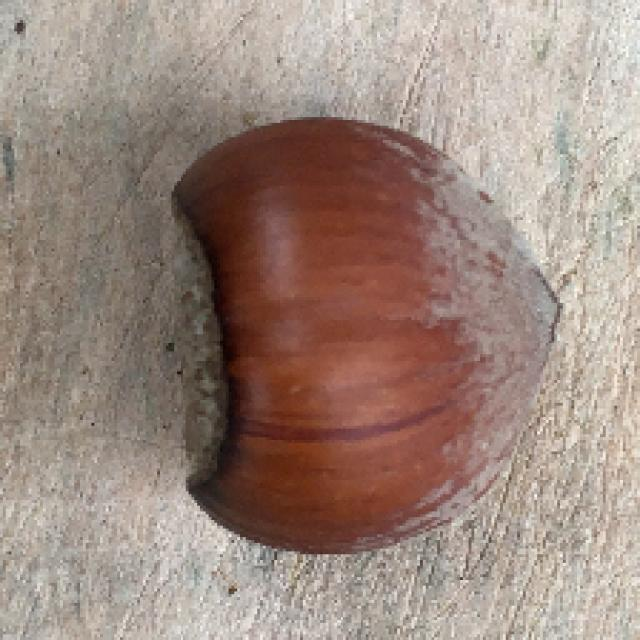qualityHazelnut: (147, 115, 568, 552)
